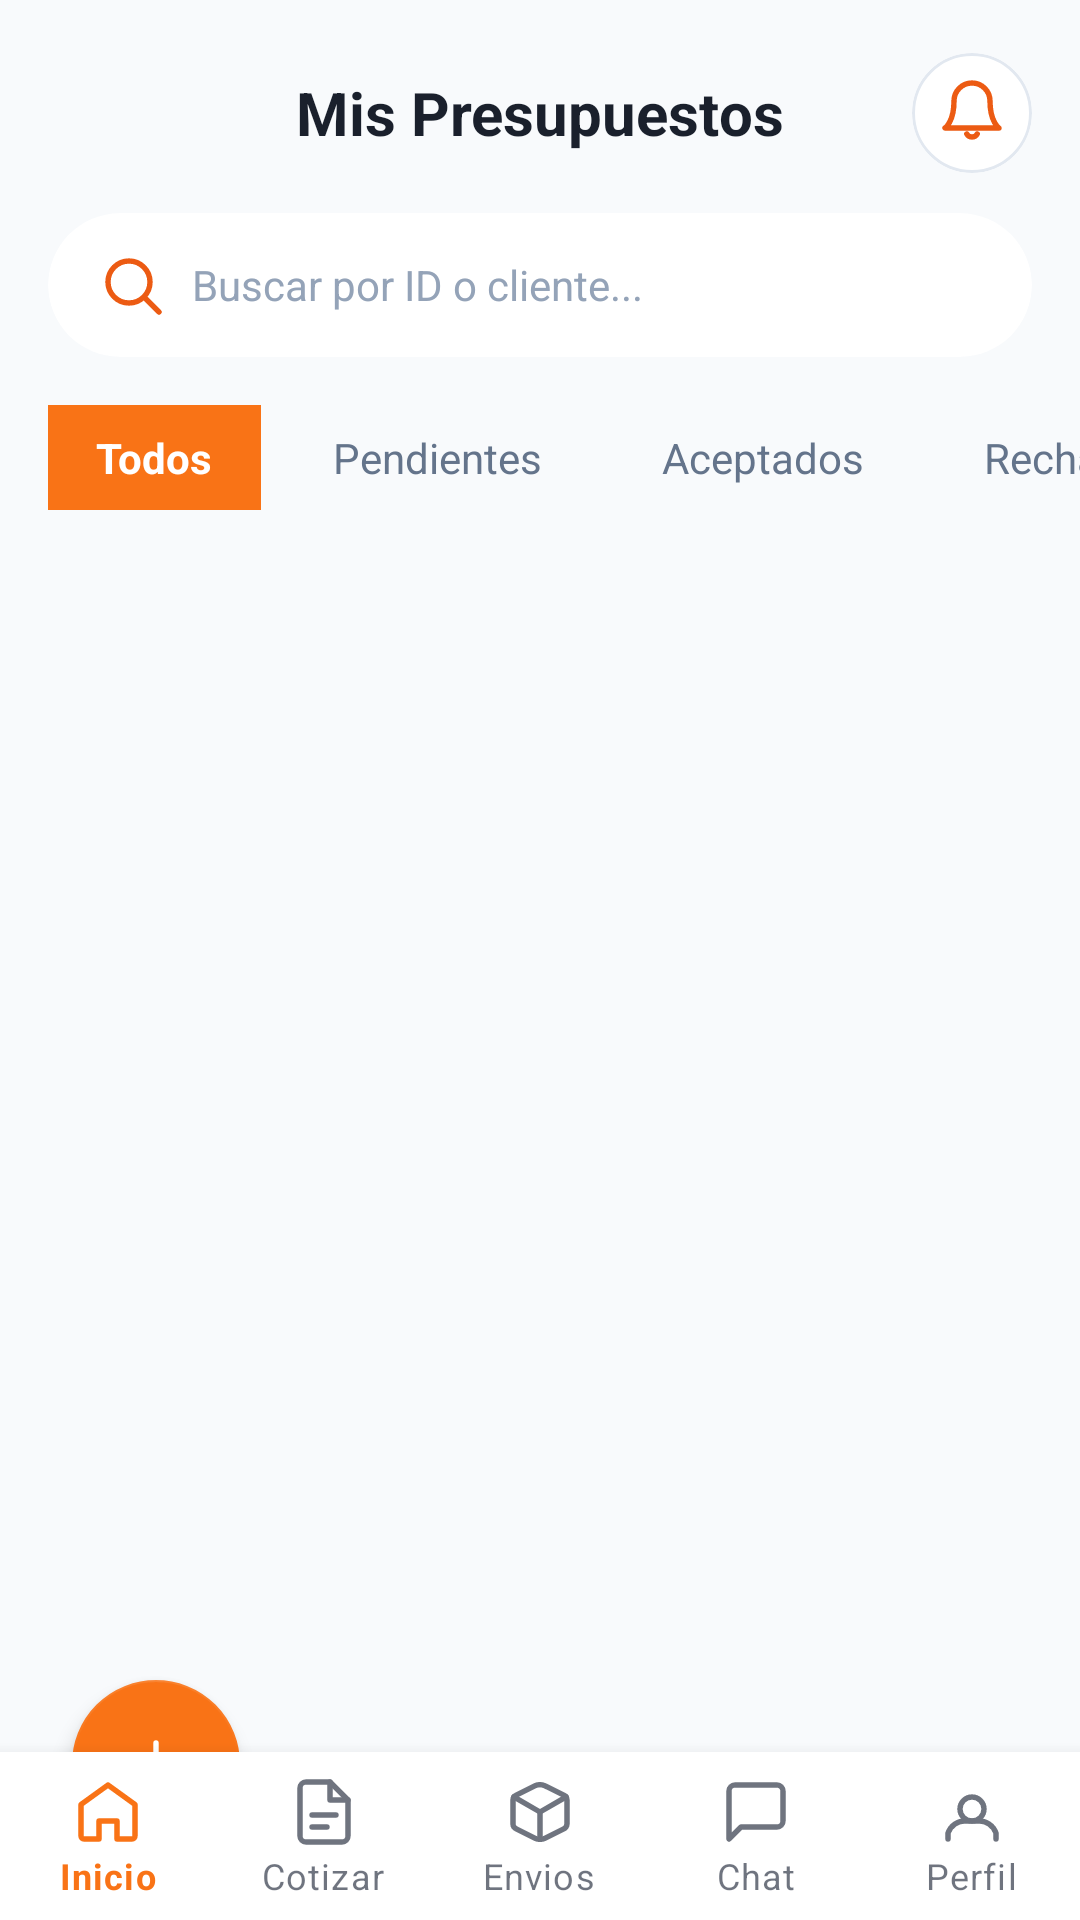

Named icons in this screenshot (1080px x 1920px) and their bounding boxes, region(x1, y1, x2, y2):
bell: region(942, 80, 1002, 140)
search: region(105, 258, 162, 315)
